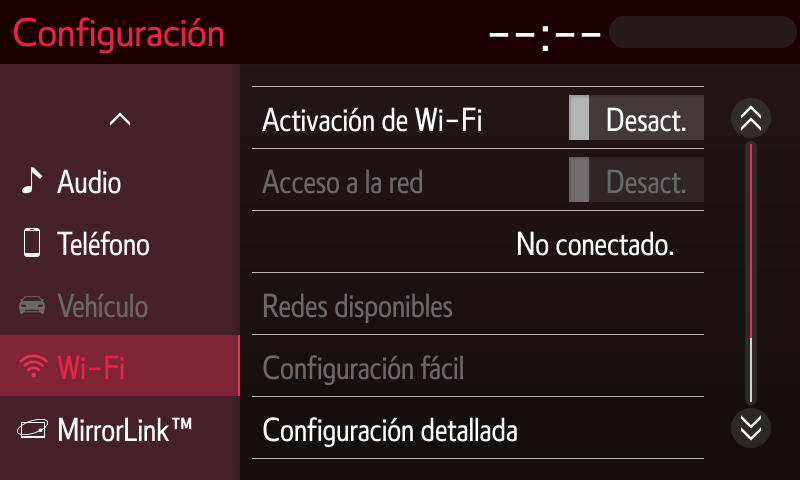touchPart: (246, 79, 705, 154), (249, 390, 717, 461), (12, 409, 202, 450), (17, 226, 161, 264), (20, 156, 139, 198), (98, 106, 143, 141), (728, 410, 770, 447), (734, 97, 771, 137)
untouchPart: (249, 267, 714, 341), (249, 329, 713, 403), (247, 146, 707, 214), (1, 330, 241, 396), (482, 8, 793, 55), (11, 13, 229, 52), (13, 290, 167, 323)
